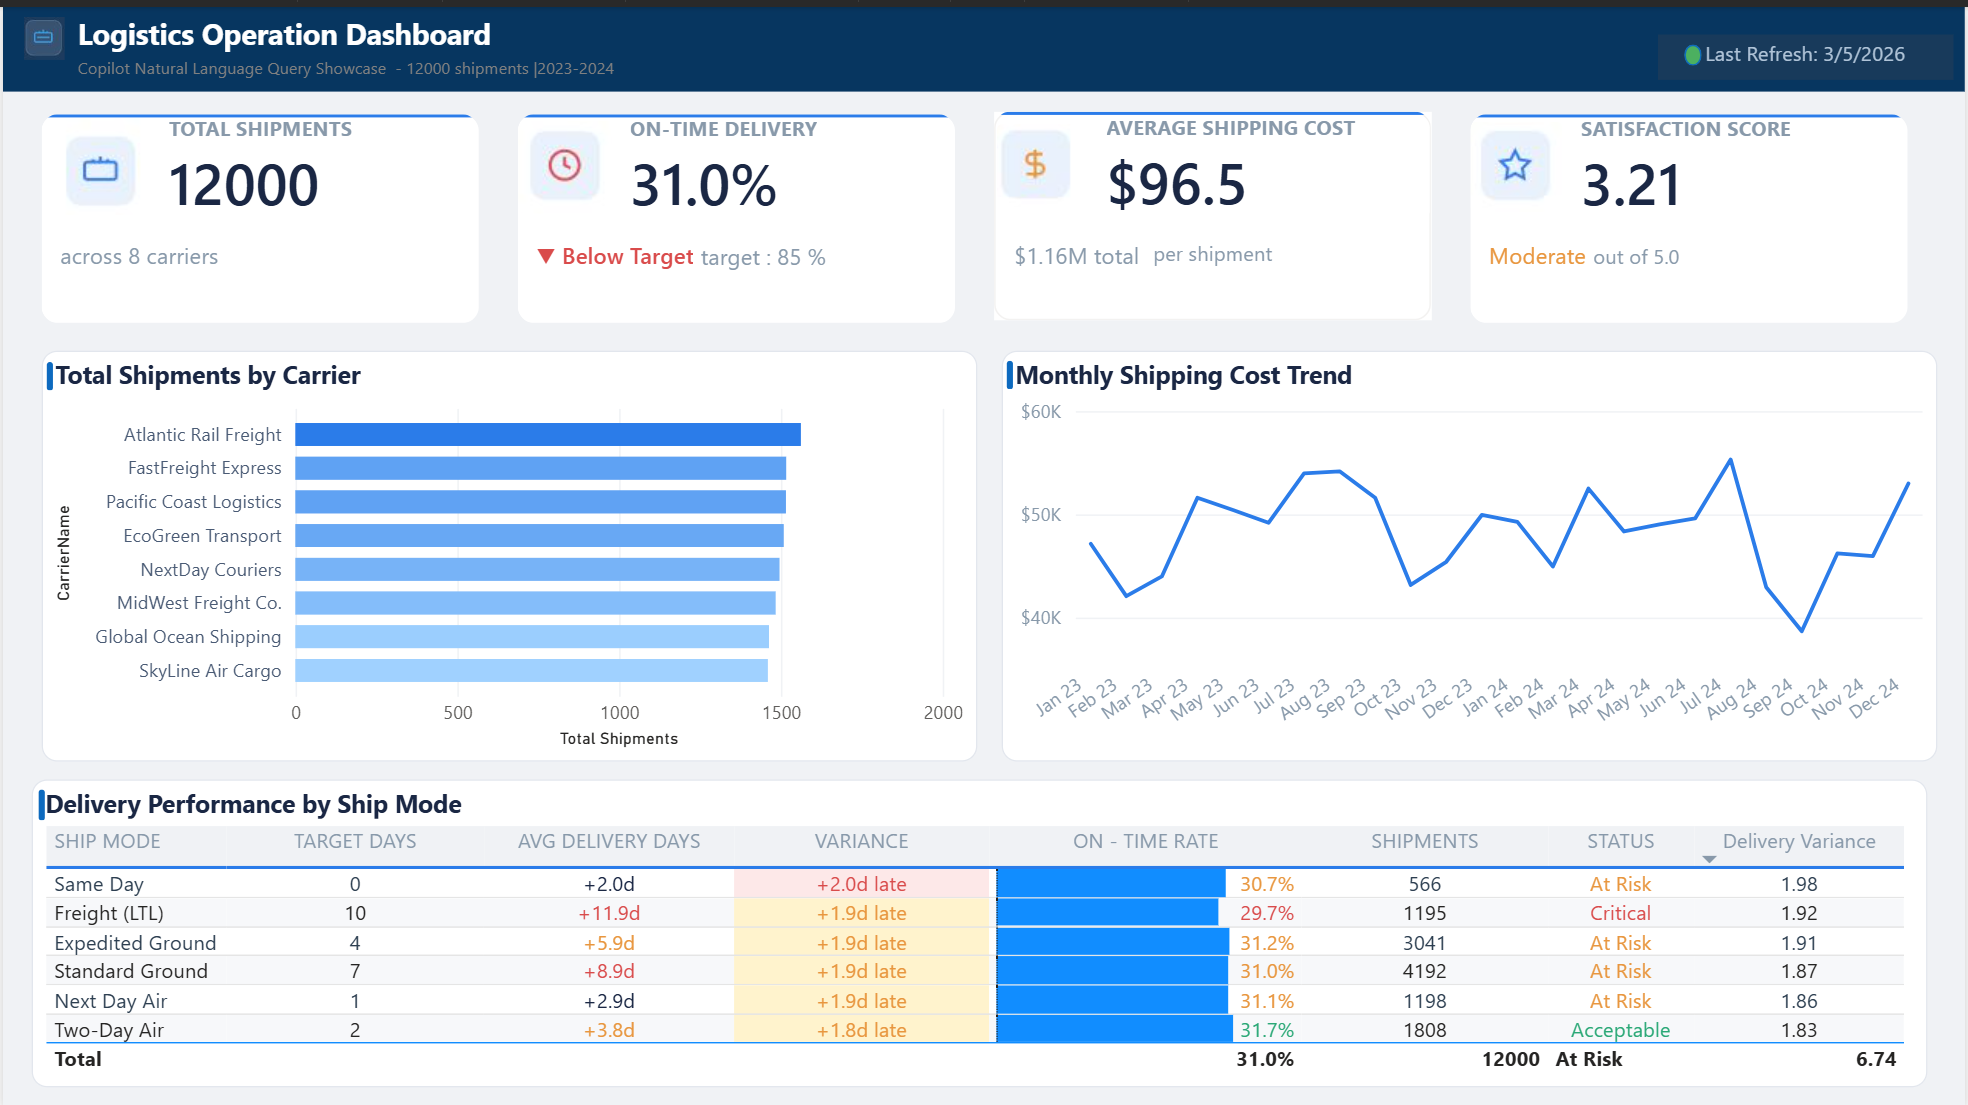

Layout of this report page (visuals, bound fields, positions):
{"tool":"powerbi","page":{"name":"Overall Analysis","canvas":[1280,720],"ordinal":0},"visuals":[{"type":"textbox","title":"Logistics Operation Dashboard","box":[0,0,1280,55],"z":0,"group":"g3"},{"type":"cardVisual","fields":{"Data":["FactShipments.Average Shipping Cost"]},"box":[642,64,295,146.8],"z":0,"group":"g5"},{"type":"cardVisual","fields":{"Data":["FactShipments.On-Time Delivery Rate"]},"box":[331,65,295,146.8],"z":0,"group":"g6"},{"type":"cardVisual","fields":{"Data":["FactShipments.Average Satisfaction Score"]},"box":[953,65,295,146.8],"z":0,"group":"g4"},{"type":"tableEx","title":"Delivery Performance by Ship Mode","fields":{"Values":["DimShipMode.ShipMode","DimShipMode.TargetDays","FactShipments.AVG Delivery Days Display","FactShipments.Variance Display","FactShipments.On-Time Delivery Rate","FactShipments.Total Shipments","FactShipments.Delivery Status","FactShipments.Delivery Variance"]},"box":[18.8,504,1236.4,200.6],"z":0,"group":"g7"},{"type":"cardVisual","fields":{"Data":["FactShipments.Total Shipments"]},"box":[20,65,295,146],"z":1000},{"type":"clusteredBarChart","title":"Total Shipments by Carrier","fields":{"Category":["DimCarrier.CarrierName"],"Y":["FactShipments.Total Shipments"]},"box":[25.3,224.3,610.1,268.3],"z":1000,"group":"g1"},{"type":"shape","box":[1097,24.5,12.2,13],"z":2000},{"type":"textbox","box":[1032.5,148.4,95.4,39.1],"z":3000,"group":"g4"},{"type":"group","id":"g1","title":"Group 1","box":[0,224.3,635.3,268.3],"z":3000},{"type":"group","id":"g2","title":"Group 2","box":[626.5,224.3,635.3,268.3],"z":4000},{"type":"group","id":"g3","title":"Group 3","box":[0,0,1279.7,54.6],"z":5000},{"type":"group","id":"g4","title":"Group 6","box":[953,65,295,146.8],"z":6000},{"type":"group","id":"g5","title":"Group 5","box":[642,64,295,146.8],"z":7000},{"type":"textbox","box":[450.2,147.6,95.4,39.1],"z":7000,"group":"g6"},{"type":"group","id":"g6","title":"Group 4","box":[331,65,295,146.8],"z":8000},{"type":"textbox","box":[745.4,146.8,95.4,39.1],"z":8000,"group":"g5"},{"type":"shape","box":[0,510.5,50.6,20.4],"z":9000,"group":"g7"},{"type":"group","id":"g7","title":"Group 7","box":[0,504,1255.2,200.6],"z":9001},{"type":"shape","box":[1097,24.5,11.4,13.9],"z":9502},{"type":"shape","box":[0,231.6,61.2,18.8],"z":10000,"group":"g1"},{"type":"lineChart","title":"Monthly Shipping Cost Trend","fields":{"Category":["DimDate.YearMonthLabel"],"Y":["FactShipments.Total Shipping Cost"]},"box":[651.8,224.3,610.1,268],"z":12500,"group":"g2"},{"type":"image","box":[10.6,6.5,32.6,27.7],"z":13000,"group":"g3"},{"type":"card","fields":{"Values":["ReportRefreshDateTime.LastRefreshDate"]},"box":[1079.8,18,192.5,29.4],"z":13500,"group":"g3"},{"type":"shape","box":[626.5,230.8,61.2,18.8],"z":13500,"group":"g2"}]}

Visuals, with their boxes in screenshot pixels (x1, y1, x2, y2), scaled from the page's 1280x720 canvas onto the 1968x1105 screenshot:
"Logistics Operation Dashboard" textbox: (x1=0, y1=0, x2=1967, y2=84)
cardVisual - FactShipments.Average Shipping Cost: (x1=987, y1=98, x2=1441, y2=324)
cardVisual - FactShipments.On-Time Delivery Rate: (x1=509, y1=100, x2=962, y2=325)
cardVisual - FactShipments.Average Satisfaction Score: (x1=1465, y1=100, x2=1919, y2=325)
"Delivery Performance by Ship Mode" tableEx: (x1=29, y1=774, x2=1930, y2=1081)
cardVisual - FactShipments.Total Shipments: (x1=31, y1=100, x2=484, y2=324)
"Total Shipments by Carrier" clusteredBarChart: (x1=39, y1=344, x2=977, y2=756)
shape: (x1=1687, y1=38, x2=1705, y2=58)
textbox: (x1=1587, y1=228, x2=1734, y2=288)
"Group 1" group: (x1=0, y1=344, x2=977, y2=756)
"Group 2" group: (x1=963, y1=344, x2=1940, y2=756)
"Group 3" group: (x1=0, y1=0, x2=1967, y2=84)
"Group 6" group: (x1=1465, y1=100, x2=1919, y2=325)
"Group 5" group: (x1=987, y1=98, x2=1441, y2=324)
textbox: (x1=692, y1=227, x2=839, y2=287)
"Group 4" group: (x1=509, y1=100, x2=962, y2=325)
textbox: (x1=1146, y1=225, x2=1293, y2=285)
shape: (x1=0, y1=783, x2=78, y2=815)
"Group 7" group: (x1=0, y1=774, x2=1930, y2=1081)
shape: (x1=1687, y1=38, x2=1704, y2=59)
shape: (x1=0, y1=355, x2=94, y2=384)
"Monthly Shipping Cost Trend" lineChart: (x1=1002, y1=344, x2=1940, y2=756)
image: (x1=16, y1=10, x2=66, y2=52)
card - ReportRefreshDateTime.LastRefreshDate: (x1=1660, y1=28, x2=1956, y2=73)
shape: (x1=963, y1=354, x2=1057, y2=383)
